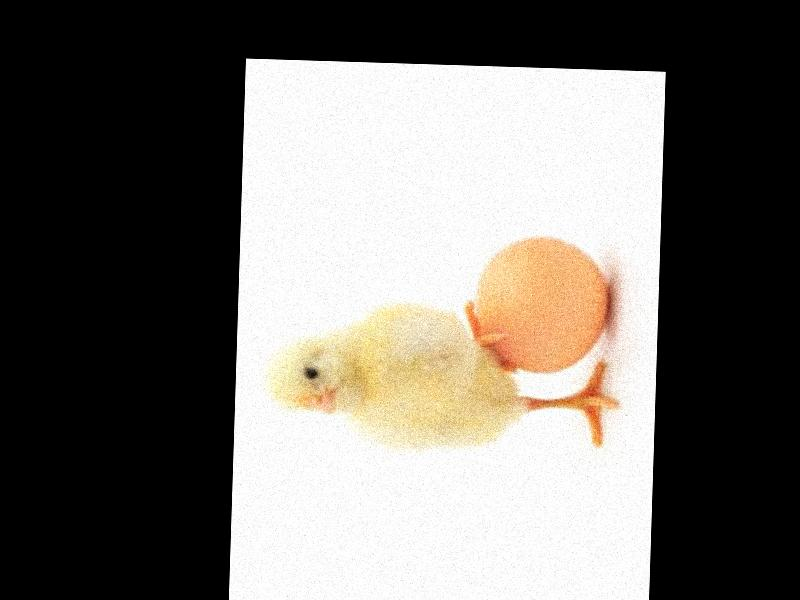Eggs: (467, 233, 609, 377)
